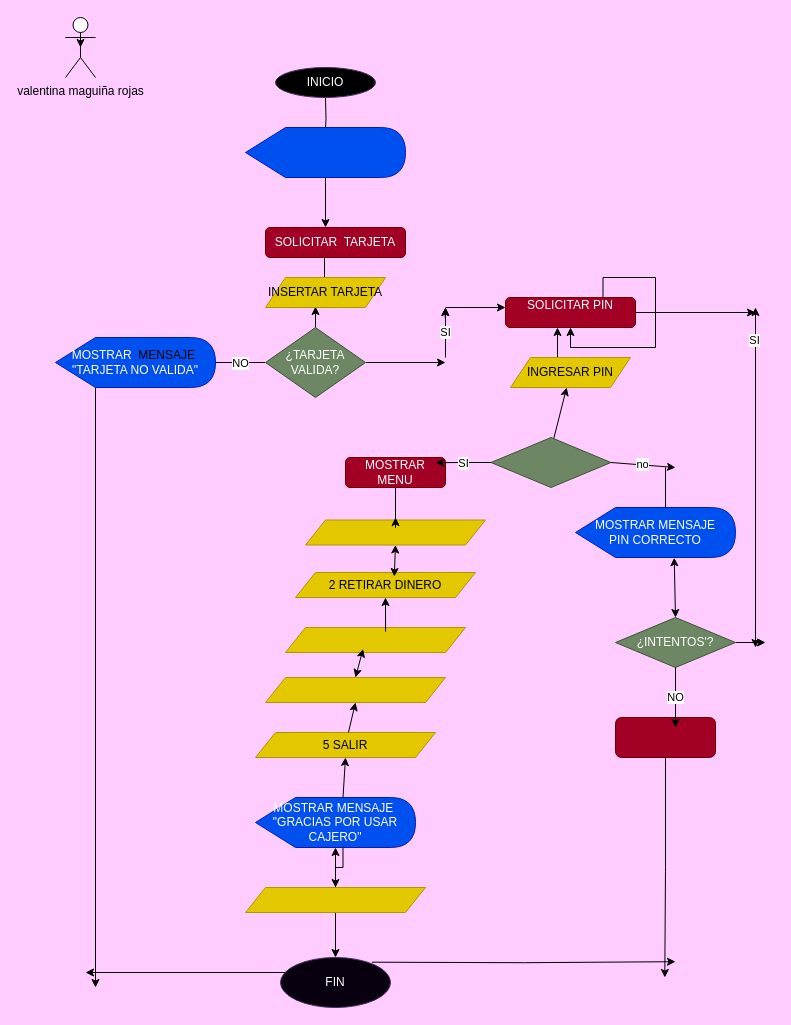
Image size: 791x1025. Some labels were removed from this diagram. Here are the shapes that lost their labels. From the top down, the centre of each, then its label:
(325,152): MOSTRAR EL MENSAJE "BIENVENIDOS AL CAJERO"
(550,462): PIN CORRECTO?
(395,532): 1. CONSULTAR SALDO
(375,639): 3 DEPOSITAR DINERO
(355,689): 4 CAMBIAR PIN
(665,737): RETENER TARJETA
(335,899): RETIRAR TARJETA
